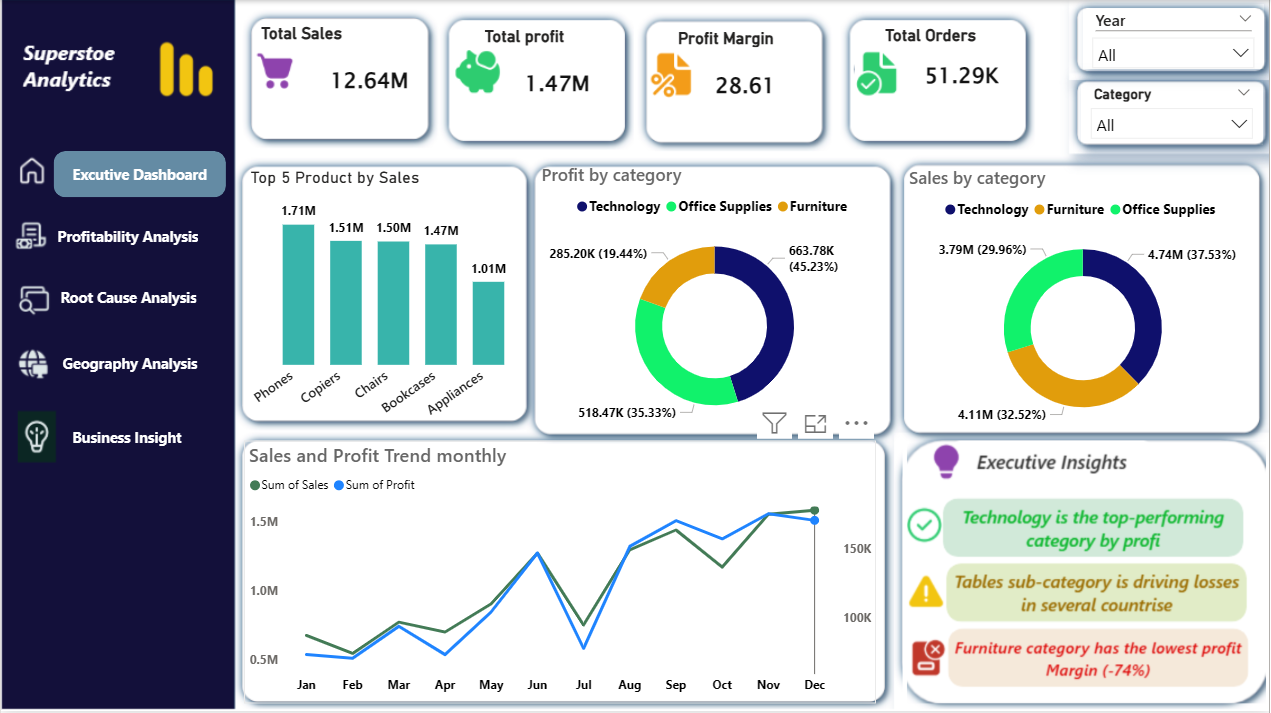

The dashboard page shown, as its layout file describes it:
{"tool":"powerbi","page":{"name":"Excutive Dashboard","canvas":[1280,720],"ordinal":0},"visuals":[{"type":"shape","box":[53,154.4,174.1,46.9],"z":0},{"type":"shape","box":[27.3,278.6,202.9,46.9],"z":1000},{"type":"shape","box":[19.7,345.2,221.1,46.9],"z":2000},{"type":"shape","box":[25.7,420.9,202.9,45.4],"z":3000},{"type":"shape","box":[24.2,216.5,207.4,48.5],"z":4000},{"type":"cardVisual","title":"Profit Margin","fields":{"Data":["Avg(Fact_sales.Profit)"]},"box":[678.4,30.3,146.9,95.4],"z":5000},{"type":"cardVisual","title":"Total Orders","fields":{"Data":["CountNonNull(Fact_sales.Order ID)"]},"box":[887.3,27.3,165,81.8],"z":6000},{"type":"slicer","fields":{"Values":["Date.Year"]},"box":[1091.7,6.7,183.3,65],"z":7000},{"type":"lineChart","title":"Sales and Profit Trend monthly","fields":{"Y":["Sum(Fact_sales.Sales)"],"Y2":["Sum(Fact_sales.Profit)"],"Category":["Date.Column 2"]},"box":[245,446.7,638.3,265],"z":8000},{"type":"donutChart","title":"Sales by category","fields":{"Category":["Dim_product.Category"],"Y":["Sum(Fact_sales.Sales)"]},"box":[911.6,169.6,360.4,274.1],"z":9000},{"type":"columnChart","title":"Top 5 Product by Sales","fields":{"Y":["Sum(Fact_sales.Sales)"],"Category":["Dim_product.Sub-Category"]},"box":[247,171.3,286.8,270.9],"z":10000},{"type":"slicer","fields":{"Values":["Dim_product.Category"]},"box":[1090,83.3,183.3,65],"z":11000},{"type":"donutChart","title":"Profit by category","fields":{"Category":["Dim_product.Category"],"Y":["Sum(Fact_sales.Profit)"]},"box":[540.6,166.6,358.9,275.6],"z":12000},{"type":"cardVisual","title":"Total Sales","fields":{"Data":["measuress.total sales"]},"box":[257.4,25.7,183.2,93.9],"z":13000},{"type":"cardVisual","title":"Total profit","fields":{"Data":["measuress.total profit"]},"box":[483,28.8,157.5,93.9],"z":14000},{"type":"image","box":[910,446.7,370,265],"z":15000}]}

Visuals, with their boxes on the page's 1280x720 design canvas (x1, y1, x2, y2). These are canvas units, not pixel positions in the 1271x713 screenshot, which may show the page scaled, cropped or inside an application window:
shape: [53,154,227,201]
shape: [27,279,230,326]
shape: [20,345,241,392]
shape: [26,421,229,466]
shape: [24,216,232,265]
"Profit Margin" cardVisual: [678,30,825,126]
"Total Orders" cardVisual: [887,27,1052,109]
slicer - Date.Year: [1092,7,1275,72]
"Sales and Profit Trend monthly" lineChart: [245,447,883,712]
"Sales by category" donutChart: [912,170,1272,444]
"Top 5 Product by Sales" columnChart: [247,171,534,442]
slicer - Dim_product.Category: [1090,83,1273,148]
"Profit by category" donutChart: [541,167,900,442]
"Total Sales" cardVisual: [257,26,441,120]
"Total profit" cardVisual: [483,29,640,123]
image: [910,447,1280,712]
